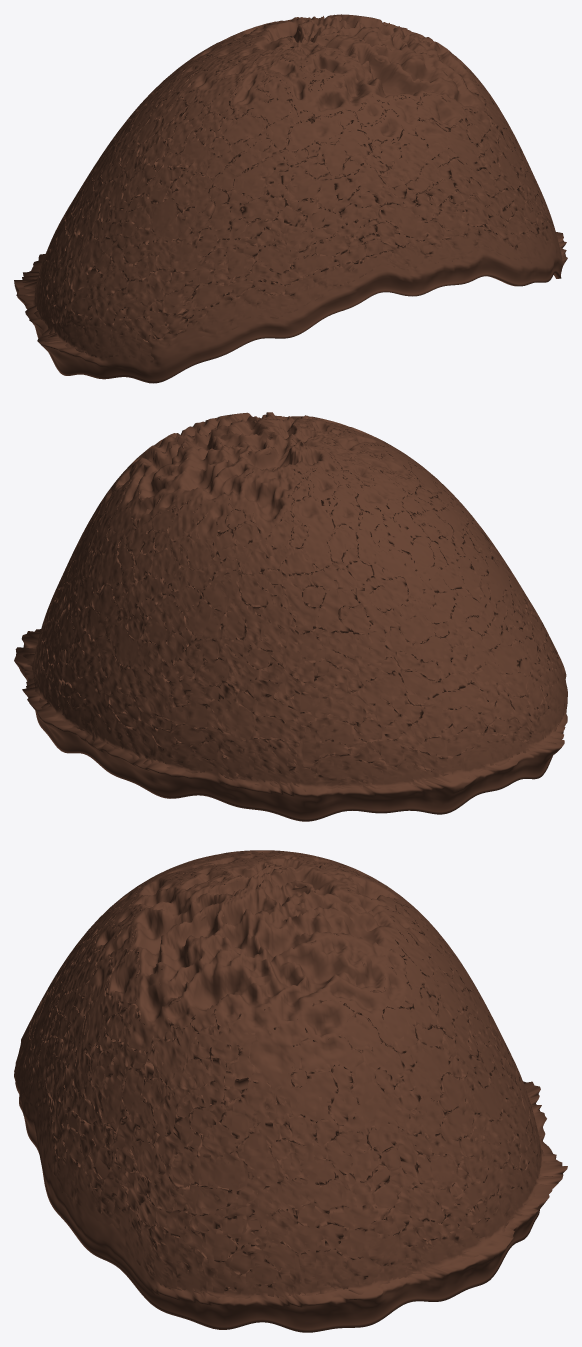
File: Masculine-afro-beanie252-hair.glb
3 renders of one model, top to bottom at view 1: azimuth 30°, elevation 25°; view 2: azimuth 150°, elevation 25°; view 3: azimuth 270°, elevation 25°, orthographic. The views are drawn at different scales.
Visible parts, largest first — view 1: 226 hair / Hair252 / dense natural coil groups.001; view 2: 226 hair / Hair252 / dense natural coil groups.001; view 3: 226 hair / Hair252 / dense natural coil groups.001.
Part boxes in pixels (x1,y1,x2,y2): 226 hair / Hair252 / dense natural coil groups.001: [14, 14, 567, 383]; 226 hair / Hair252 / dense natural coil groups.001: [14, 412, 567, 821]; 226 hair / Hair252 / dense natural coil groups.001: [14, 850, 567, 1332].
Size of the model in its own units: 1.04 by 0.5335 by 0.8065.
